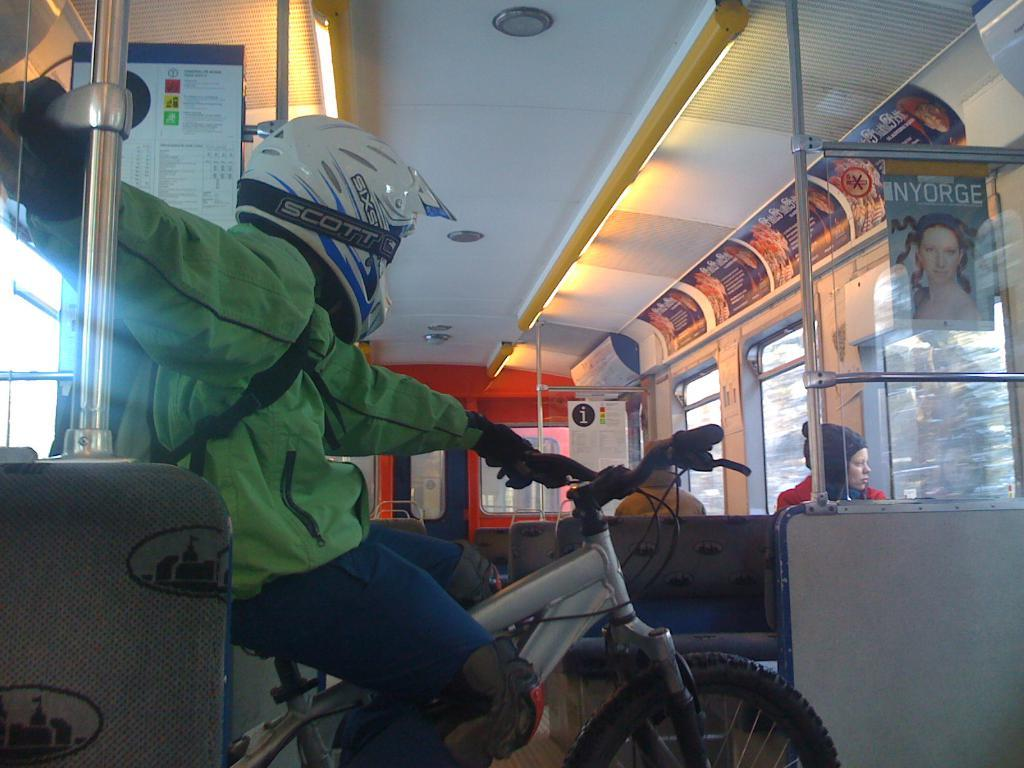helmet: (234, 114, 458, 346)
nohelmet: (802, 421, 872, 496)
